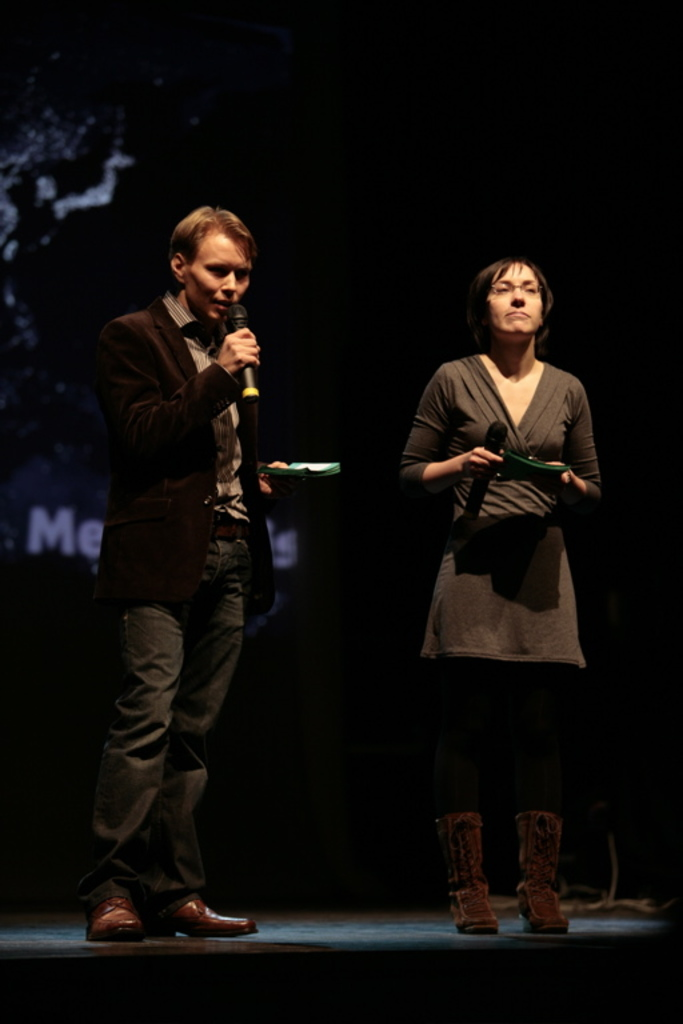Footwear: (438, 805, 504, 943), (514, 805, 572, 937), (143, 881, 253, 948), (84, 888, 167, 947)
